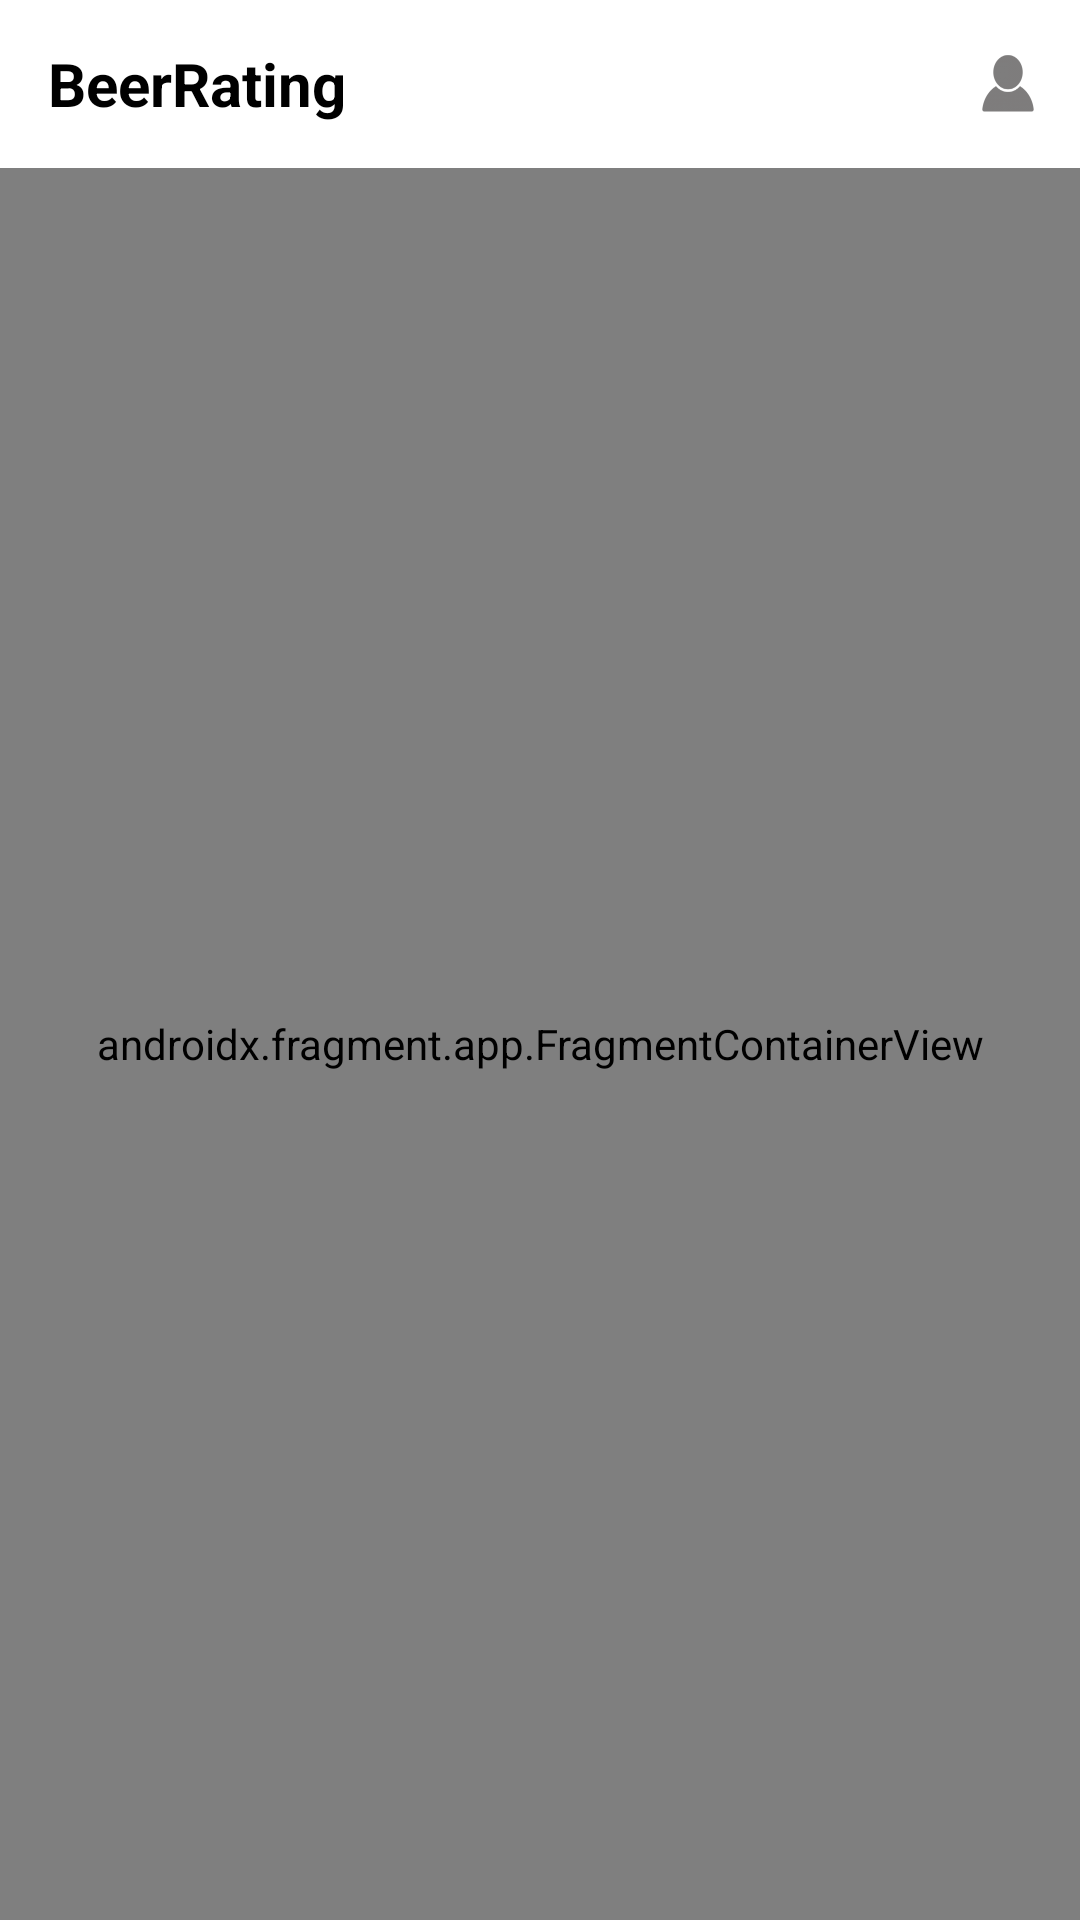

Where to tap for icons on this 1080w x 1920h app screen, as [x,y]:
profile: [1008,83]
